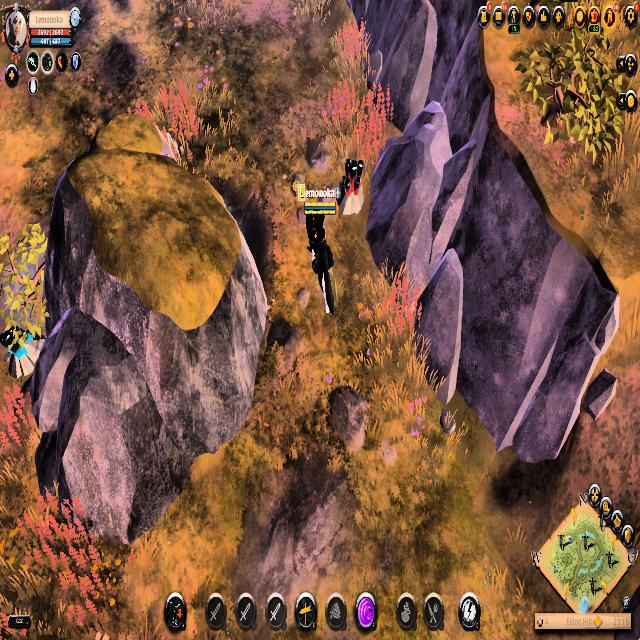ore tier 4: (0, 318, 44, 383)
ore tier 5: (336, 157, 365, 219)
